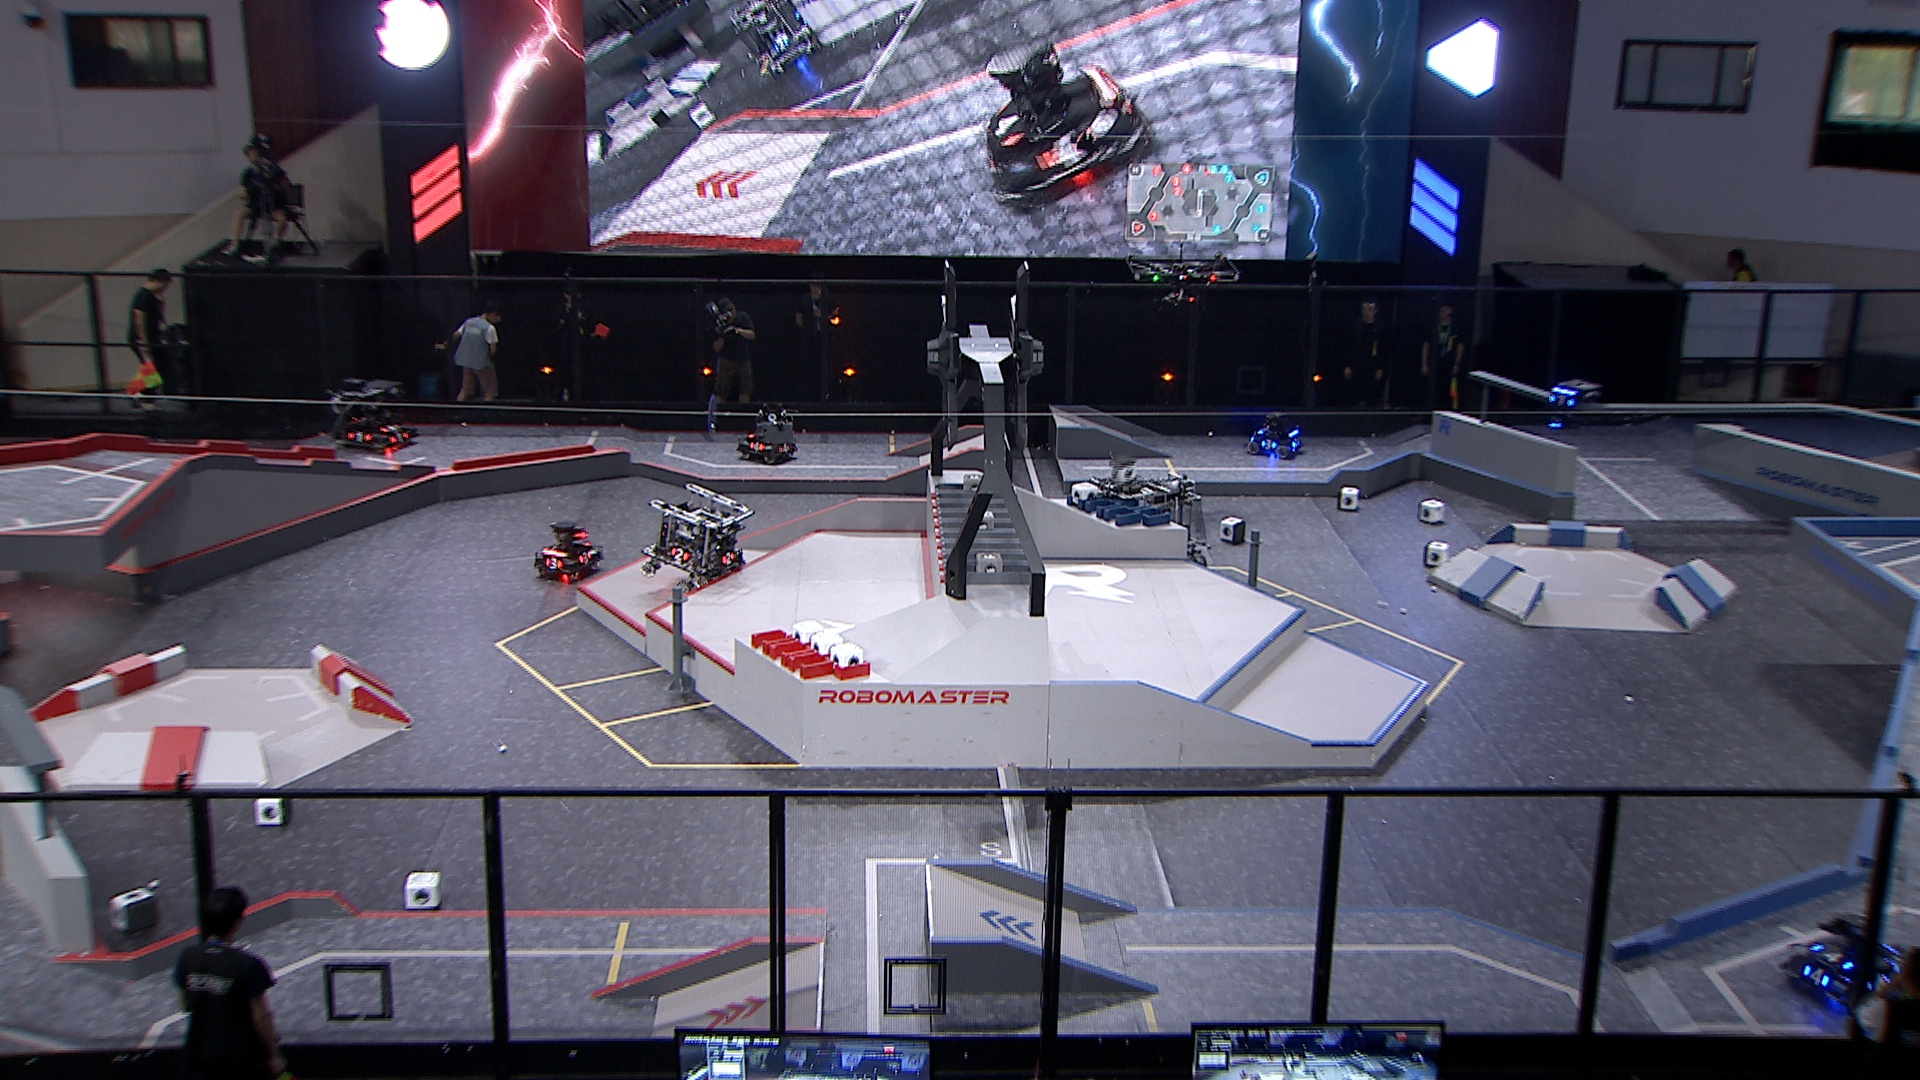armor: (1811, 939, 1858, 972), (1799, 960, 1832, 992), (343, 429, 376, 448), (1547, 392, 1576, 407), (382, 429, 409, 446), (667, 543, 688, 564), (543, 555, 564, 571), (572, 534, 596, 547), (378, 418, 400, 433), (746, 439, 766, 454), (1261, 436, 1276, 454), (719, 551, 738, 564), (775, 440, 793, 455), (579, 550, 593, 564), (1290, 436, 1302, 448)
car: (1779, 907, 1911, 1011), (637, 480, 752, 597), (1088, 469, 1212, 578), (324, 376, 425, 458), (531, 518, 605, 585), (1242, 413, 1307, 462), (737, 418, 800, 465)
ignore: (986, 32, 1163, 211)
watcher: (1542, 372, 1600, 431)
